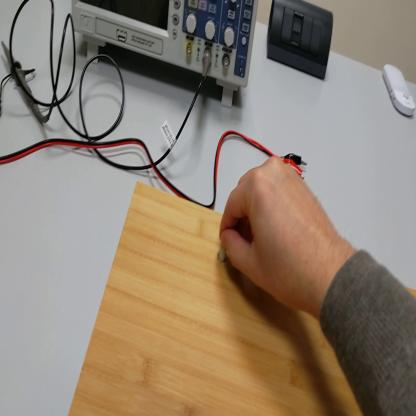hand: (219, 158, 335, 315)
oscilloscope: (70, 2, 261, 111)
working area: (70, 178, 416, 416)
